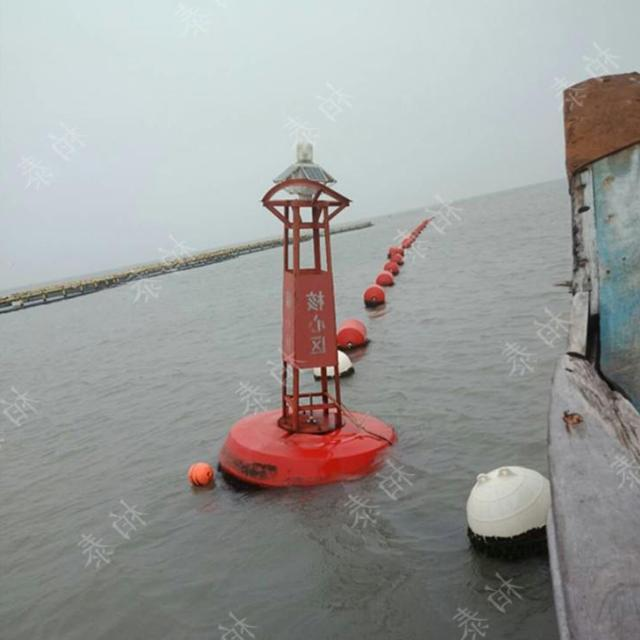buoy: (216, 127, 400, 489)
